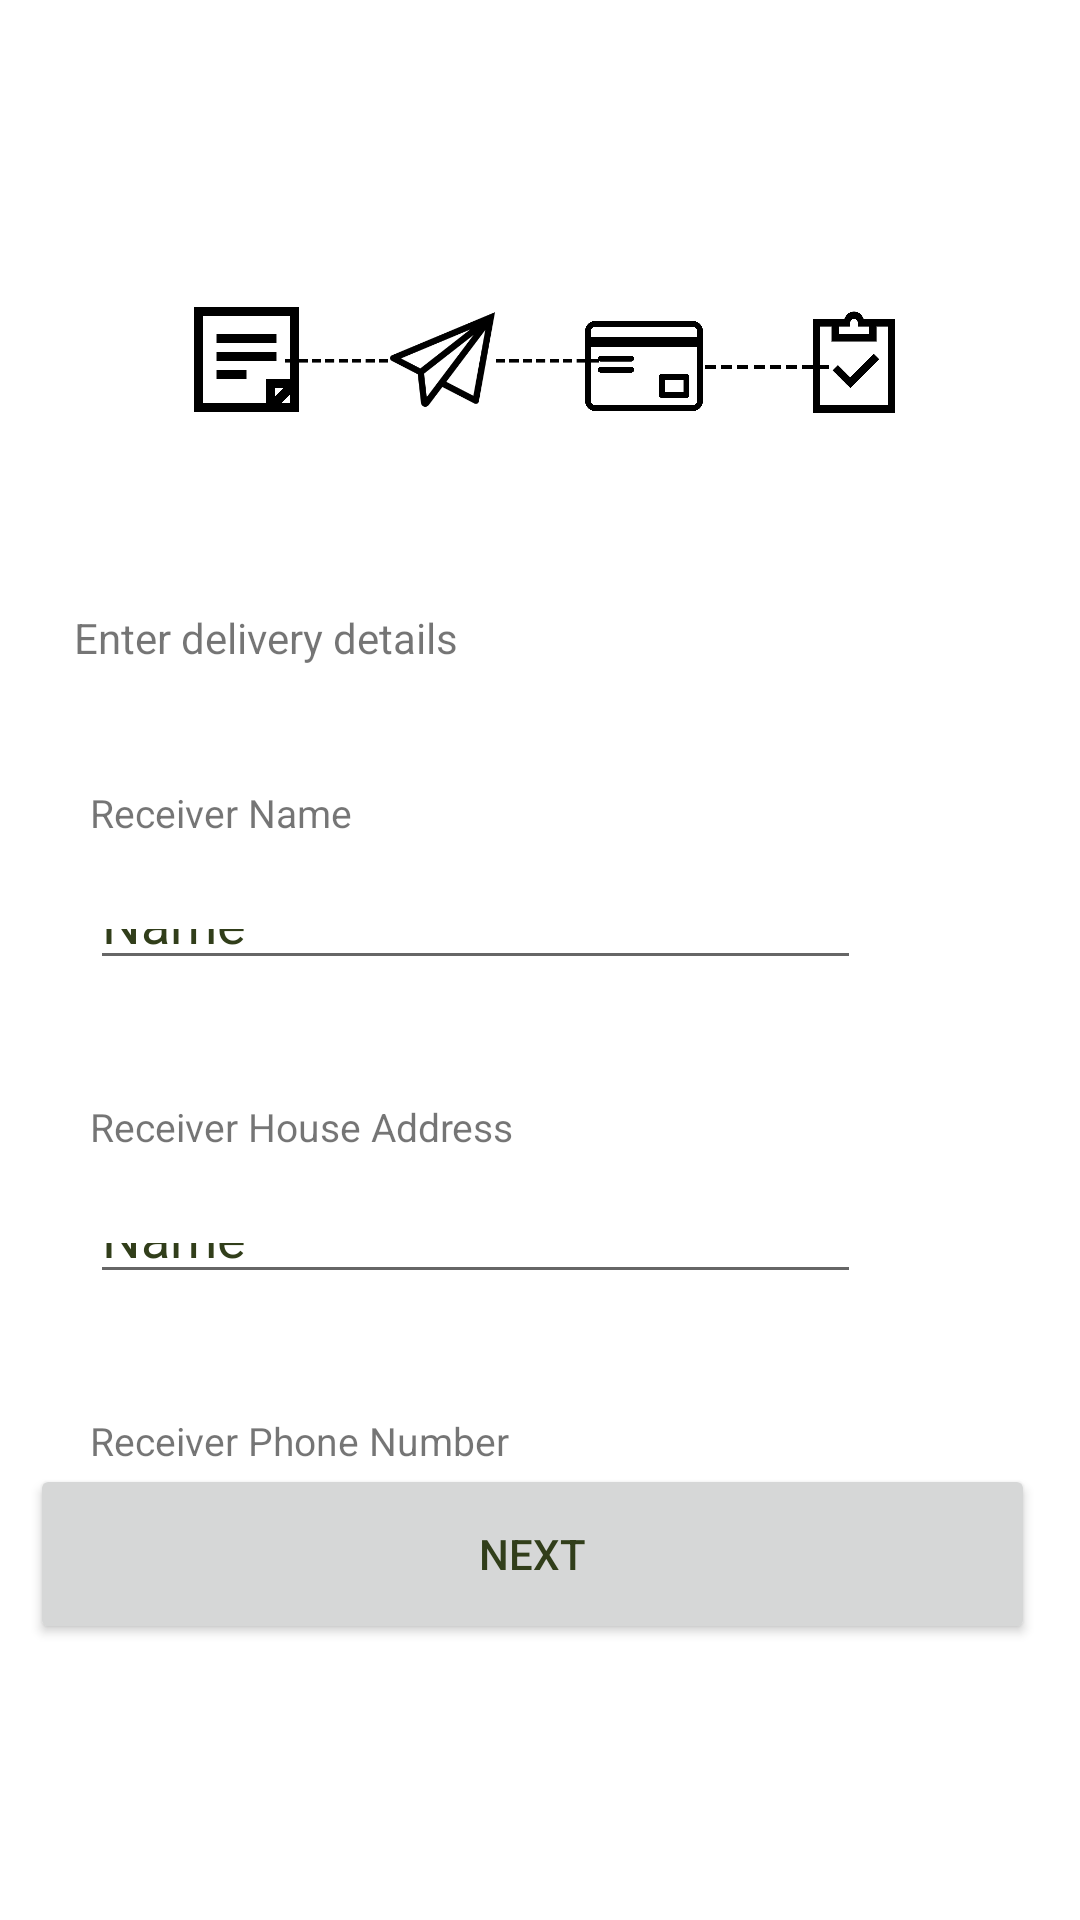

Where icons sit on this 1080 × 1920 app screen, as [left=x1, top=y1, right=x2, bottom=y2]:
card: [left=584, top=321, right=703, bottom=411]
notedetail: [left=194, top=307, right=299, bottom=412]
paperplane: [left=390, top=312, right=495, bottom=407]
success: [left=802, top=311, right=895, bottom=413]
